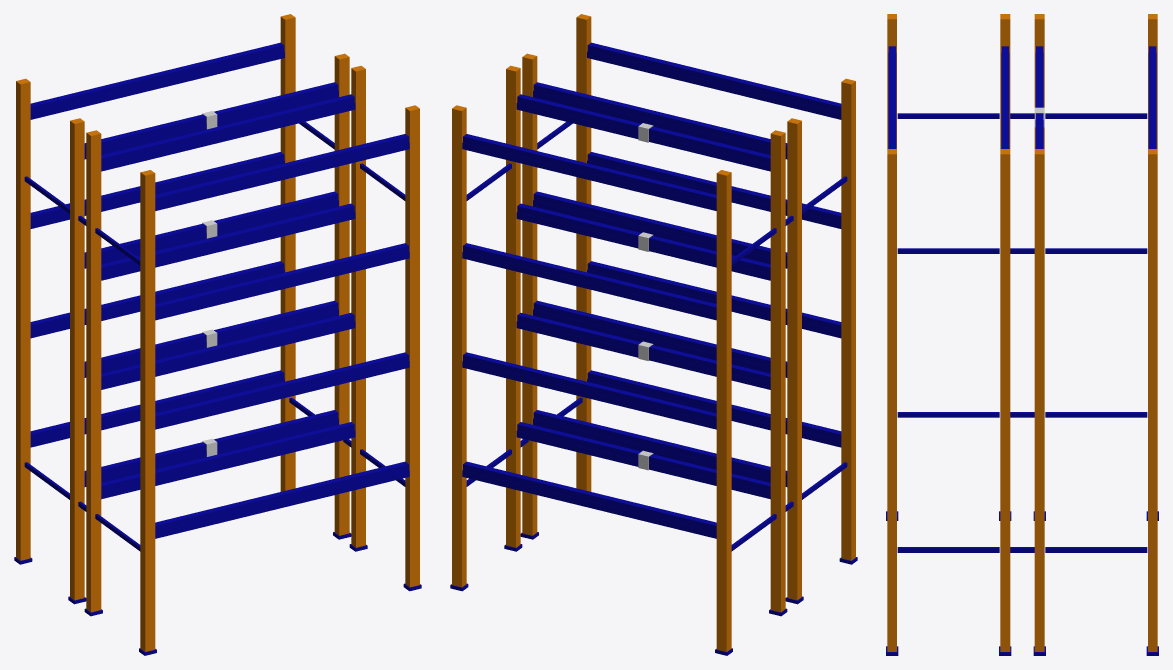
File: high-duty-C27-4-pair.glb
3 renders of one model, left to right at view 1: azimuth 30°, elevation 25°; view 2: azimuth 150°, elevation 25°; view 3: azimuth 270°, elevation 25°, orthographic. The views are drawn at different scales.
Visible parts, largest first — view 1: group2_geometry_0, group2_geometry_4, group1_geometry_4, group1_geometry_0, group2_geometry_2, group2_geometry_6, group1_geometry_2, group1_geometry_6, group1_geometry_25, group2_geometry_8, group2_geometry_12, group2_geometry_16 (+28 smaller); view 2: group1_geometry_4, group1_geometry_0, group2_geometry_0, group2_geometry_4, group1_geometry_6, group1_geometry_2, group2_geometry_6, group2_geometry_2, group2_geometry_20, group1_geometry_10, group1_geometry_15, group1_geometry_20 (+28 smaller); view 3: group1_geometry_2, group2_geometry_6, group1_geometry_6, group2_geometry_2, group1_geometry_25, group2_geometry_20, group2_geometry_22, group1_geometry_23, group2_geometry_4, group1_geometry_0, group1_geometry_4, group2_geometry_0 (+8 smaller).
Boxes of the visible parts, x1,y1,x2,y2 form: group2_geometry_0: (140, 170, 155, 651); group2_geometry_4: (86, 130, 101, 612); group1_geometry_4: (16, 78, 30, 560); group1_geometry_0: (70, 118, 84, 600); group2_geometry_2: (405, 105, 419, 587); group2_geometry_6: (351, 65, 365, 547); group1_geometry_2: (334, 53, 349, 535); group1_geometry_6: (280, 14, 295, 491); group1_geometry_25: (30, 42, 284, 113); group2_geometry_8: (155, 461, 408, 532); group2_geometry_12: (155, 352, 408, 422); group2_geometry_16: (155, 243, 408, 313); group1_geometry_4: (716, 170, 731, 651); group1_geometry_0: (770, 130, 785, 612); group2_geometry_0: (841, 78, 855, 560); group2_geometry_4: (787, 118, 801, 600); group1_geometry_6: (452, 105, 466, 587); group1_geometry_2: (506, 65, 520, 547); group2_geometry_6: (522, 53, 537, 535); group2_geometry_2: (576, 14, 591, 491); group2_geometry_20: (587, 42, 841, 113); group1_geometry_10: (463, 461, 716, 532); group1_geometry_15: (463, 352, 716, 422); group1_geometry_20: (463, 243, 716, 313); group1_geometry_2: (1034, 149, 1044, 651); group2_geometry_6: (1000, 149, 1010, 651); group1_geometry_6: (1148, 149, 1157, 651); group2_geometry_2: (887, 149, 896, 651); group1_geometry_25: (1149, 46, 1156, 148); group2_geometry_20: (888, 46, 895, 148); group2_geometry_22: (1001, 46, 1008, 148); group1_geometry_23: (1036, 46, 1043, 148); group2_geometry_4: (1000, 14, 1010, 148); group1_geometry_0: (1034, 14, 1044, 148); group1_geometry_4: (1148, 14, 1157, 148); group2_geometry_0: (887, 14, 896, 148).
Bounding box in the file's own units: 2720 × 4500 × 2220.
